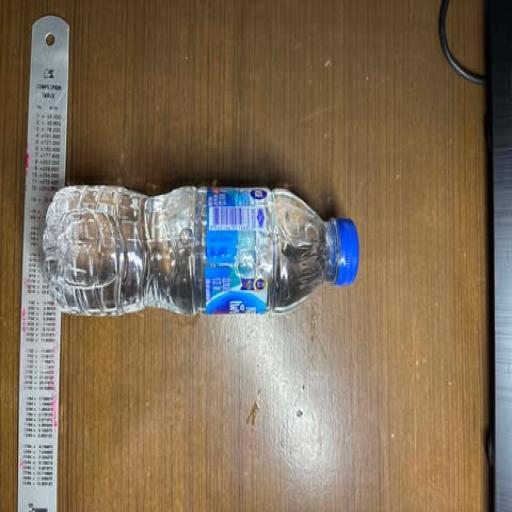bottle: (32, 169, 380, 353)
